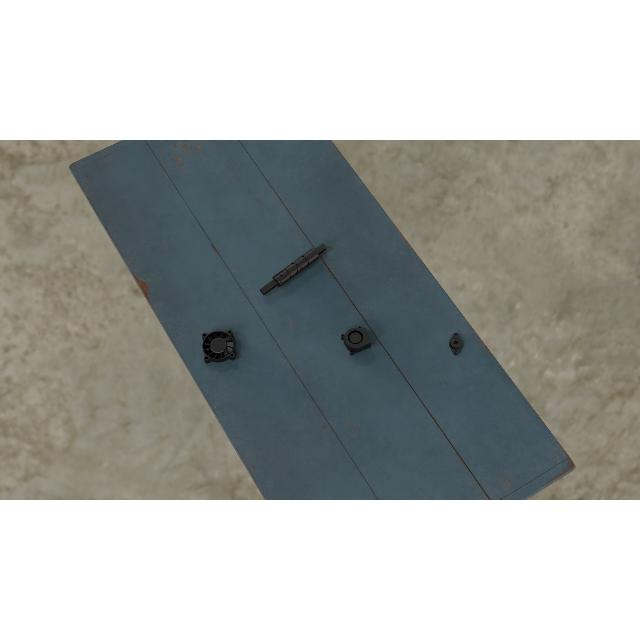Pieza1: (258, 240, 328, 300)
Pieza2: (449, 332, 463, 354)
Pieza3: (340, 324, 372, 356)
Pieza4: (202, 330, 236, 364)
